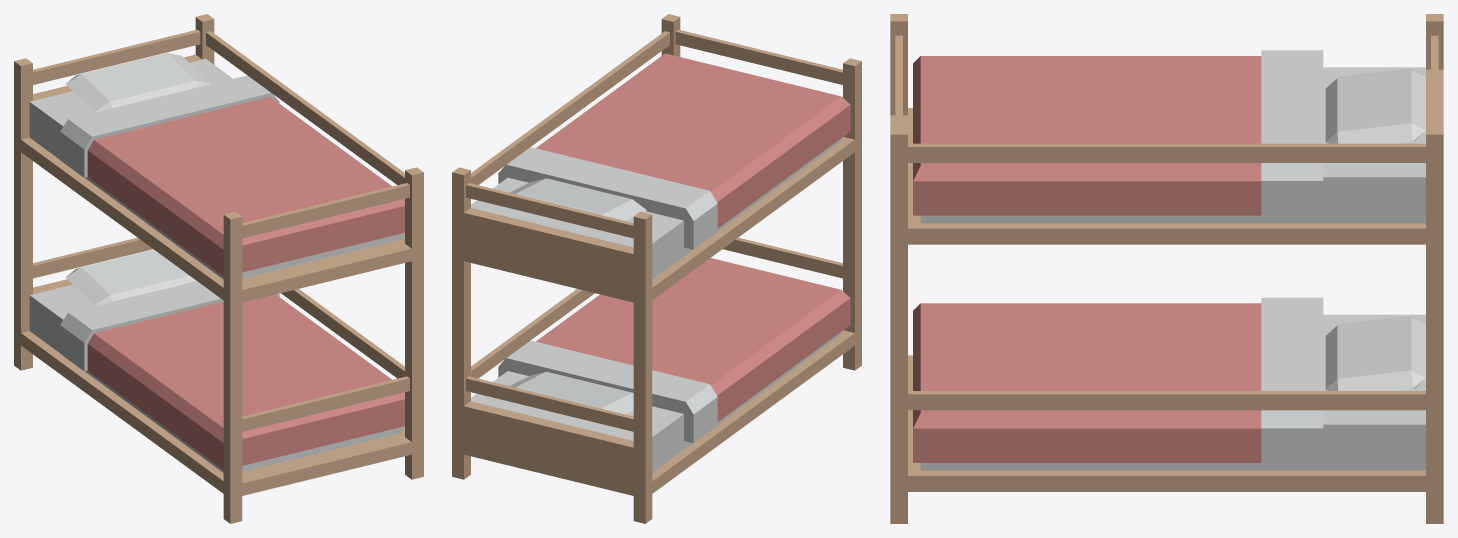
Rendered from bedBunk.glb.
The picture shows the model from 3 angles, left to right: view 1: azimuth 30°, elevation 25°; view 2: azimuth 150°, elevation 25°; view 3: azimuth 270°, elevation 25°; orthographic projection. The views are drawn at different scales.
Visible parts, largest first — view 1: bedBunk; view 2: bedBunk; view 3: bedBunk.
Boxes of the visible parts, x1,y1,x2,y2 form: bedBunk: (14, 14, 423, 523); bedBunk: (452, 14, 861, 523); bedBunk: (890, 14, 1443, 523).
Bounding box in the file's own units: 0.571 × 0.85 × 1.1.
